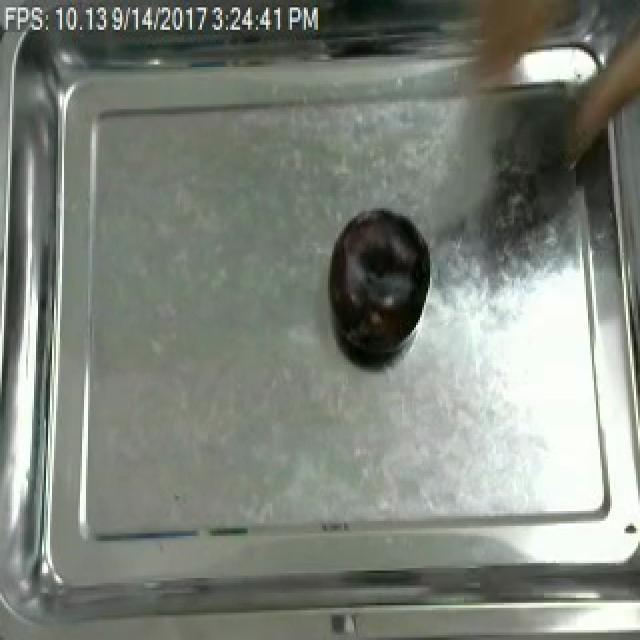Fruit: (322, 204, 434, 362)
